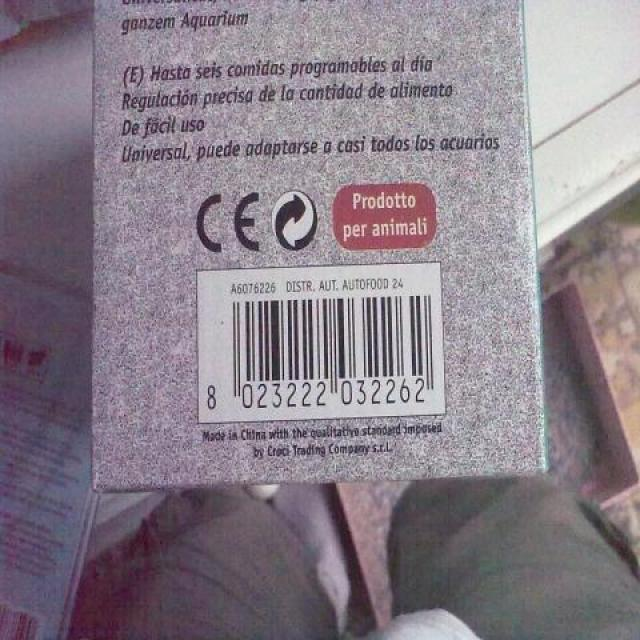Barcode: (195, 264, 448, 424)
